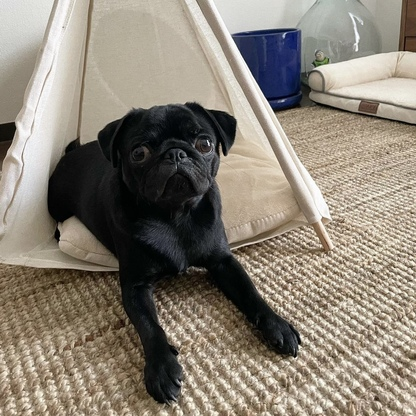Pug: (44, 96, 307, 408)
